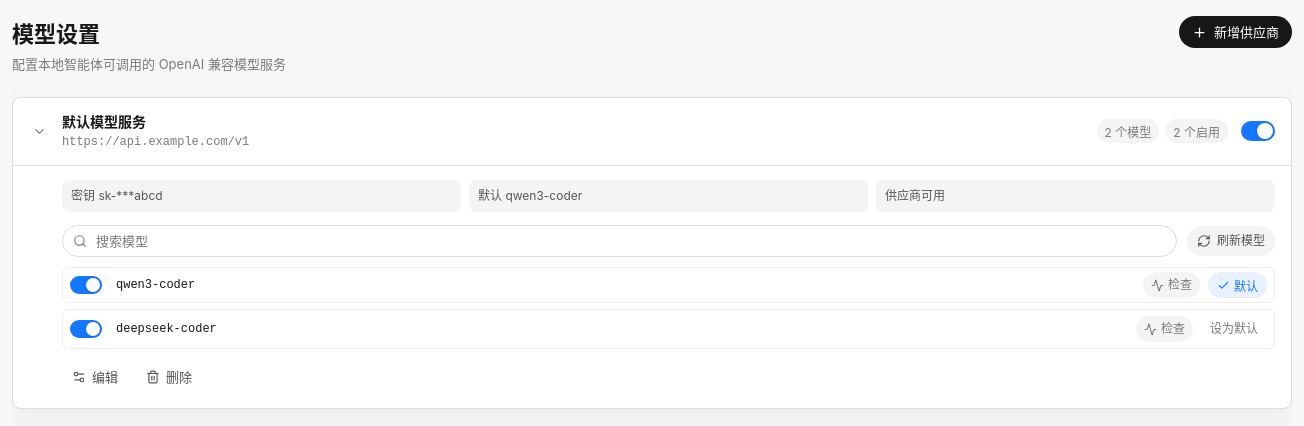
Test: ModelSettingsPage › saves the default model from the settings page model list
What coordinates should you click on to do the following:
click the button with aria-label "设为默认 deepseek-coder"
I would click on:
 (1234, 329)
Its box is left=1201, top=314, right=1267, bottom=344.
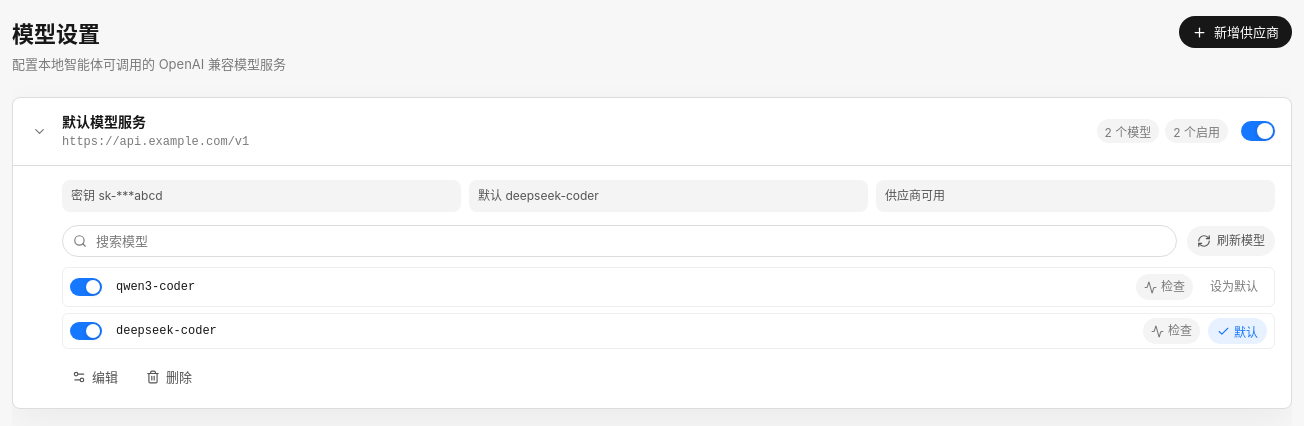
Expected: the text "默认 deepseek-coder" is shown, left=469, top=180, right=868, bottom=212
